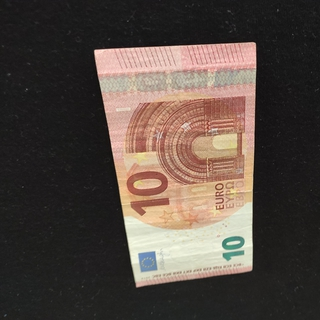10EUROFront: (93, 42, 257, 288)
